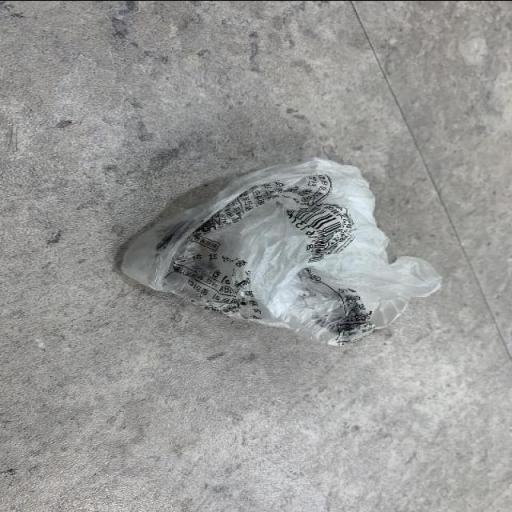plastic-bag: (116, 155, 446, 348)
